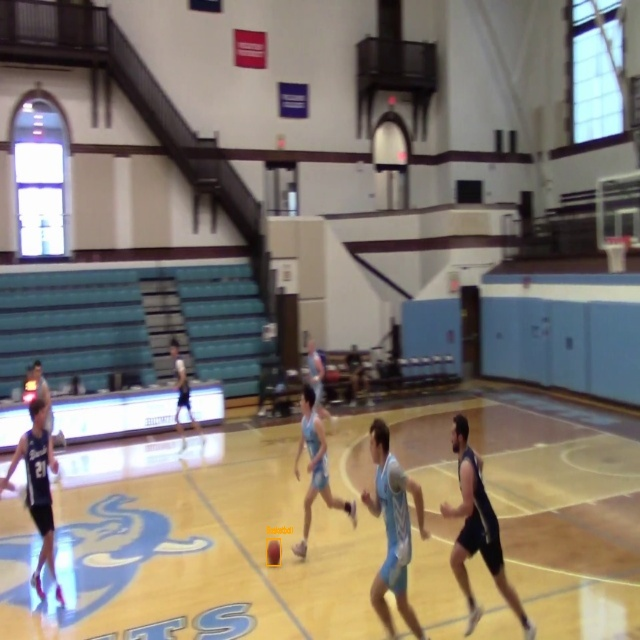Basketball: (266, 539, 281, 566)
